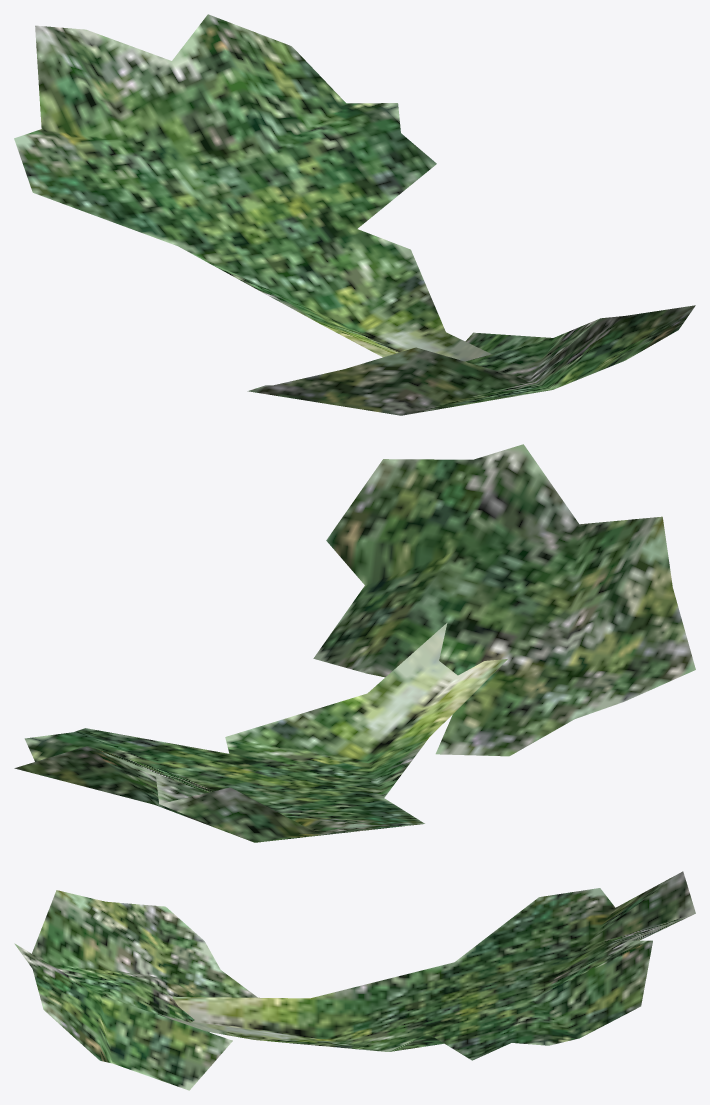
File: edb_food_vegetable_s2_l1.fbx
3 renders of one model, top to bottom at view 1: azimuth 30°, elevation 25°; view 2: azimuth 150°, elevation 25°; view 3: azimuth 270°, elevation 25°, orthographic. The views are drawn at different scales.
Parts seen in each view (by area): view 1: mesh_node; view 2: mesh_node; view 3: mesh_node.
Part boxes in pixels (box(x1,y1,x2,y2)): mesh_node: box(14, 14, 695, 415); mesh_node: box(14, 444, 695, 842); mesh_node: box(14, 871, 695, 1090).
Size of the model in its own units: 0.1649 by 0.0717 by 0.3127.
